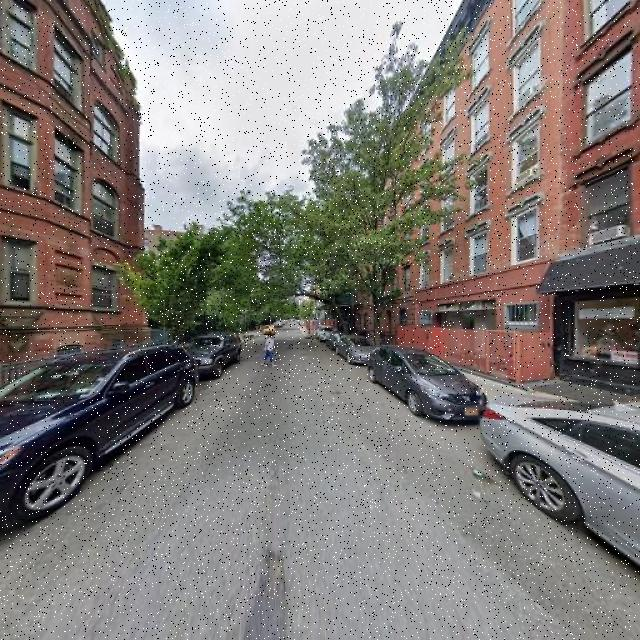Building: (414, 1, 554, 377), (1, 1, 138, 383), (560, 1, 640, 395)
